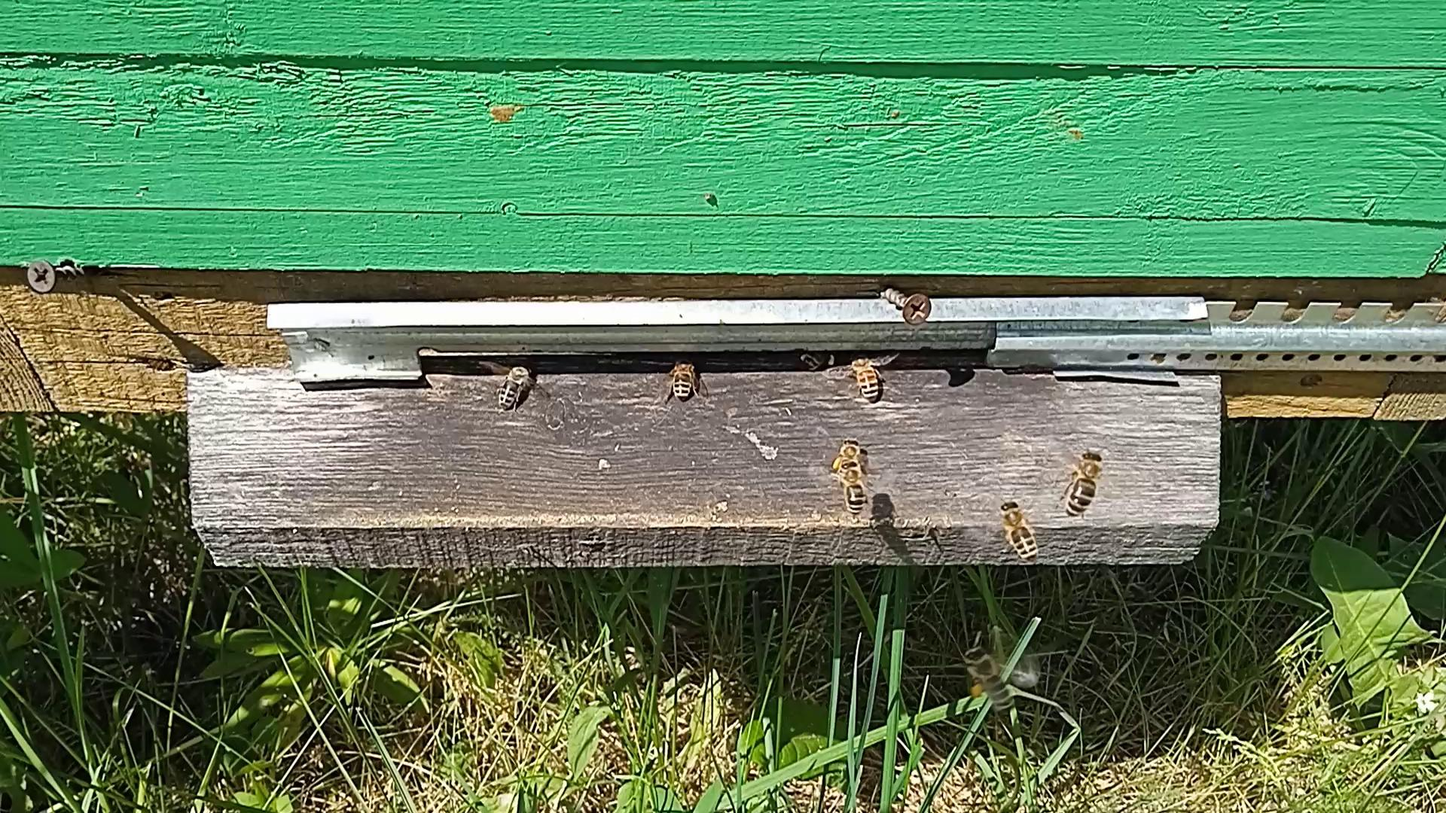worker-bee: (963, 646, 1015, 712), (1063, 448, 1105, 518), (999, 499, 1040, 563), (848, 351, 883, 403), (496, 363, 532, 410), (839, 461, 866, 516), (669, 356, 700, 402), (831, 437, 862, 475), (797, 350, 835, 370)
